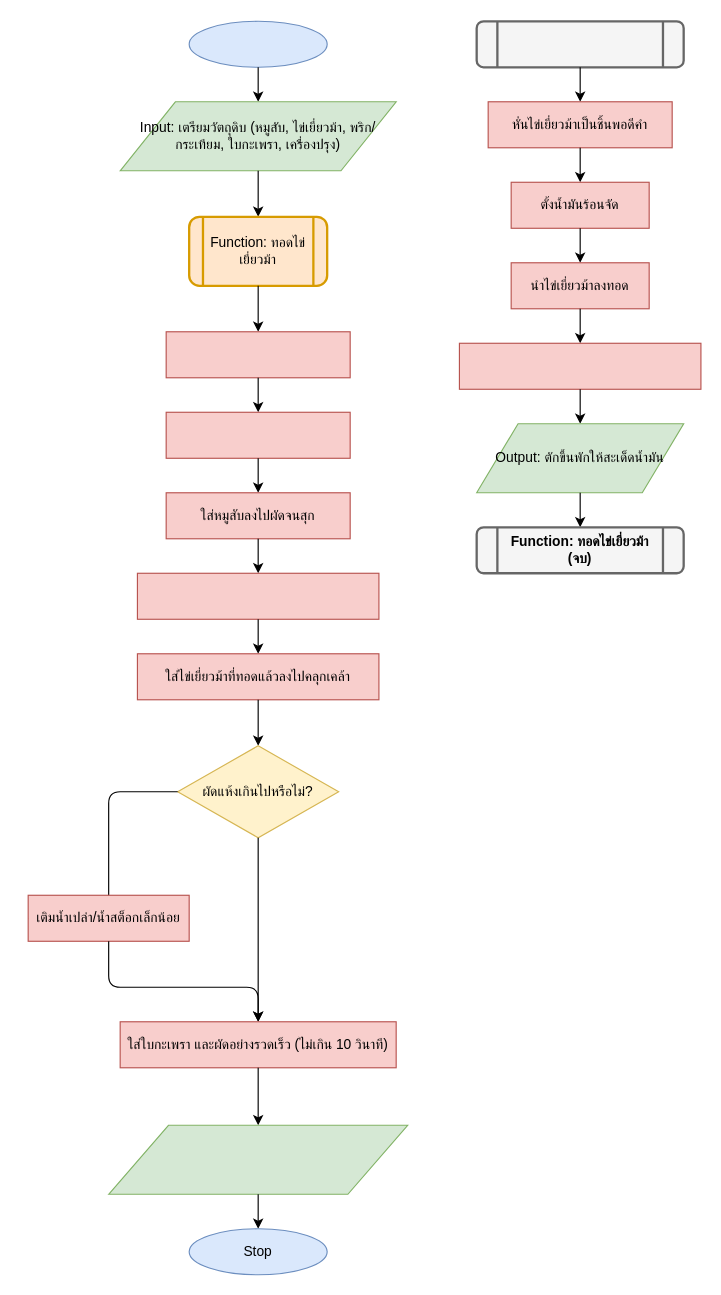
Image size: 721x1295. Some labels were removed from this diagram. Each missing label, with the centre of its shape:
"Function: ทอดไข่เยี่ยวม้า (เริ่ม)" goes at point 579,44.
"Output: ตักกระเพราไข่เยี่ยวม้าราดข้าว (พร้อมไข่ดาว)" goes at point 258,1159.
"Start" goes at point 257,43.
"ตำพริกกับกระเทียมพอหยาบ" goes at point 257,354.
"ทอดจนผิวนอกเริ่มตึง/กรอบ (ประมาณ 30 วินาที)" goes at point 579,365.
"ปรุงรสด้วยเครื่องปรุงรส (น้ำปลา, น้ำตาล, ซีอิ๊ว ฯลฯ)" goes at point 257,595.
"ผัดพริกกระเทียมในน้ำมันให้หอม" goes at point 257,434.
